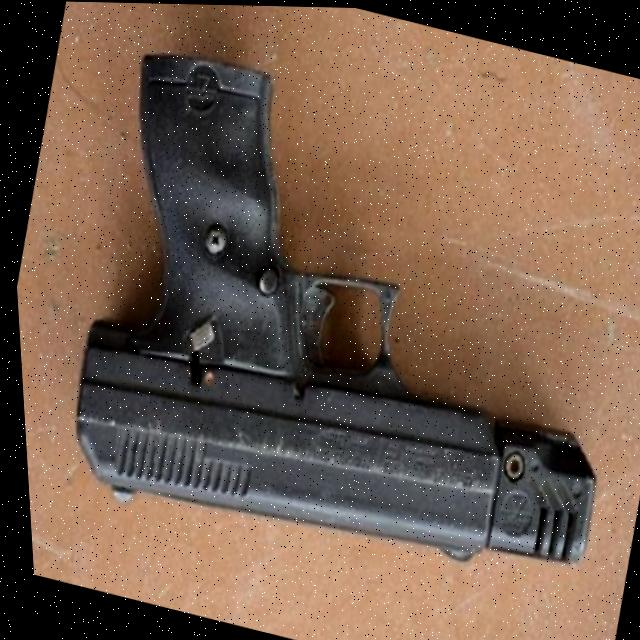pistol: (35, 38, 640, 616)
